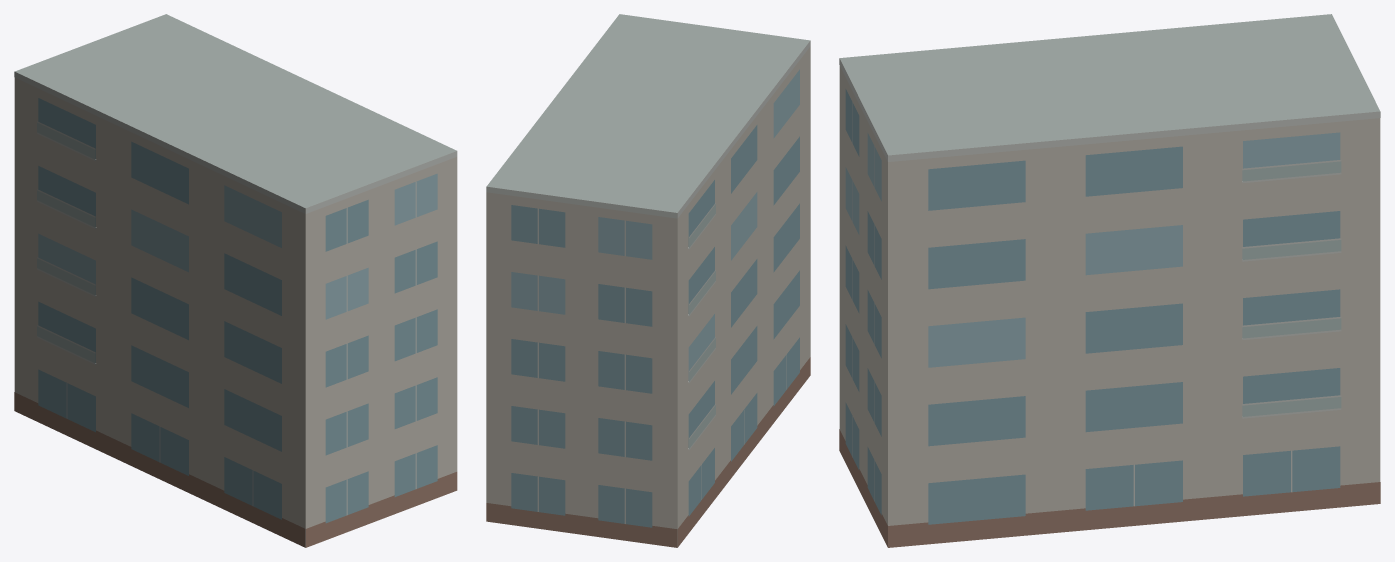
Rendered from survey-upis-32627967.glb.
3 views of the same model, side by side, from view 1: azimuth 30°, elevation 25°; view 2: azimuth 150°, elevation 25°; view 3: azimuth 270°, elevation 25° (orthographic). The views are drawn at different scales.
Visible parts, largest first — view 1: survey-upis-32627967.tmp; view 2: survey-upis-32627967.tmp; view 3: survey-upis-32627967.tmp.
Boxes of the visible parts, x1,y1,x2,y2 form: survey-upis-32627967.tmp: (14,14,457,547); survey-upis-32627967.tmp: (486,14,810,547); survey-upis-32627967.tmp: (839,14,1380,547).
Size of the model in its own units: 11.22 by 14.5 by 18.13.
